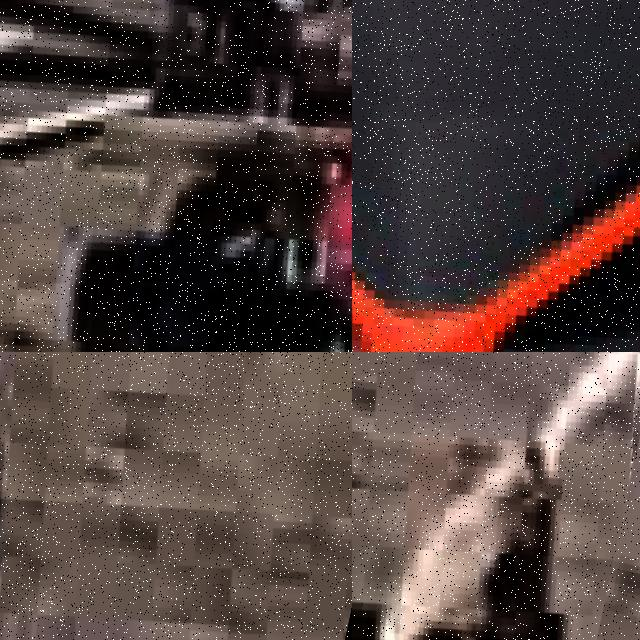0: (0, 0, 352, 352), (0, 352, 352, 640), (352, 352, 640, 640)
drone: (352, 0, 640, 352)
